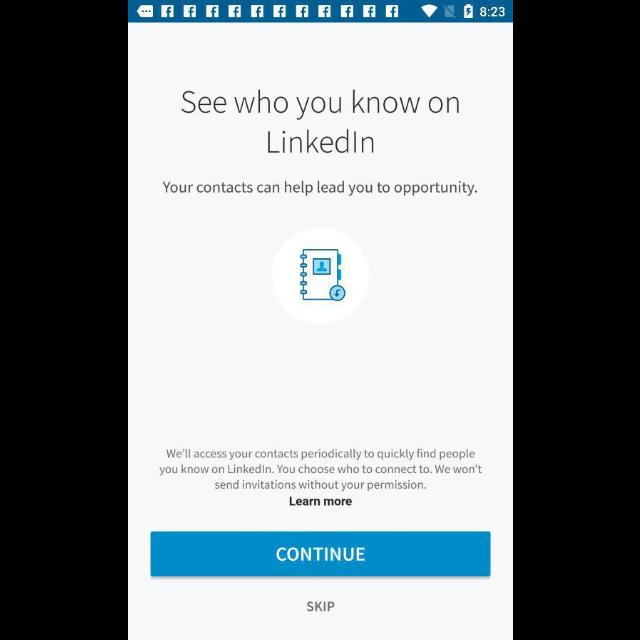image: (272, 227, 368, 325)
text: (181, 90, 459, 154), (158, 449, 482, 491), (162, 181, 476, 197), (288, 498, 352, 507), (306, 602, 334, 612)
textbutton: (150, 531, 490, 577)
uppertaskbar: (128, 1, 512, 23)
